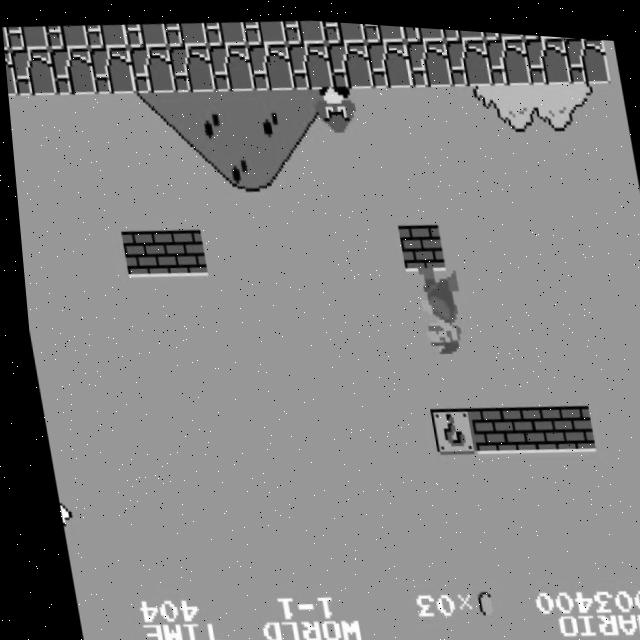0- big_mario: (410, 259, 468, 358)
1- brick_block: (115, 226, 164, 278), (155, 225, 204, 276), (393, 216, 441, 268), (540, 396, 589, 446), (461, 399, 510, 449), (501, 397, 549, 448)
13- mystery_block: (422, 400, 470, 451)
17- undestructible_block: (443, 30, 492, 82), (245, 37, 294, 89), (126, 41, 175, 93), (47, 44, 96, 96), (483, 29, 532, 80), (166, 40, 215, 91), (87, 43, 136, 94), (325, 34, 373, 86), (523, 28, 571, 79), (404, 32, 452, 83), (364, 33, 412, 84), (285, 36, 333, 87), (206, 39, 254, 90), (8, 46, 56, 97), (562, 29, 610, 78), (84, 20, 128, 49), (202, 17, 247, 45), (123, 19, 168, 47), (44, 22, 89, 50), (4, 23, 49, 51), (242, 15, 286, 43), (163, 18, 207, 46), (281, 15, 326, 42), (321, 17, 365, 40), (361, 19, 405, 39), (401, 21, 445, 37), (3, 49, 16, 97), (441, 23, 485, 36), (481, 25, 524, 34)
8- goomba: (310, 78, 361, 133)
